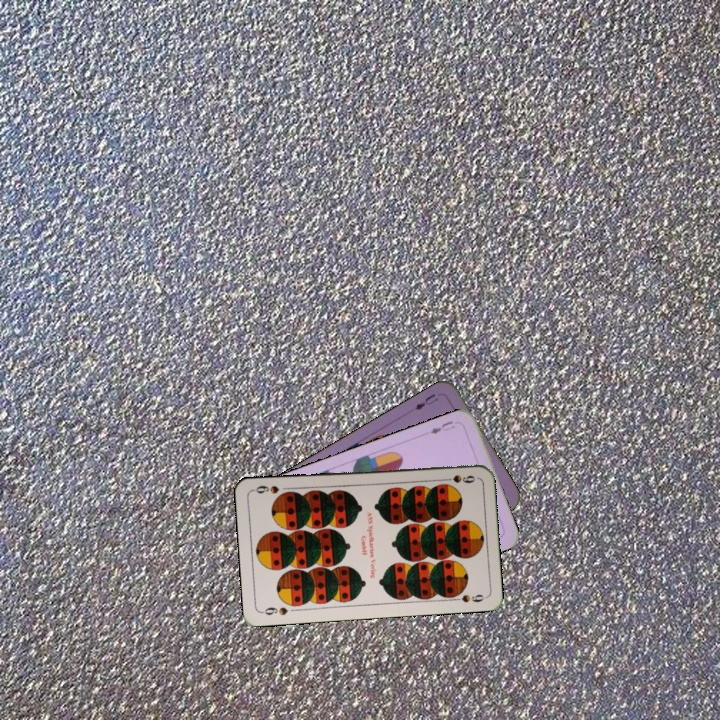EU: (410, 389, 441, 413), (426, 417, 457, 437)
S9: (438, 471, 478, 486), (258, 603, 290, 618)
